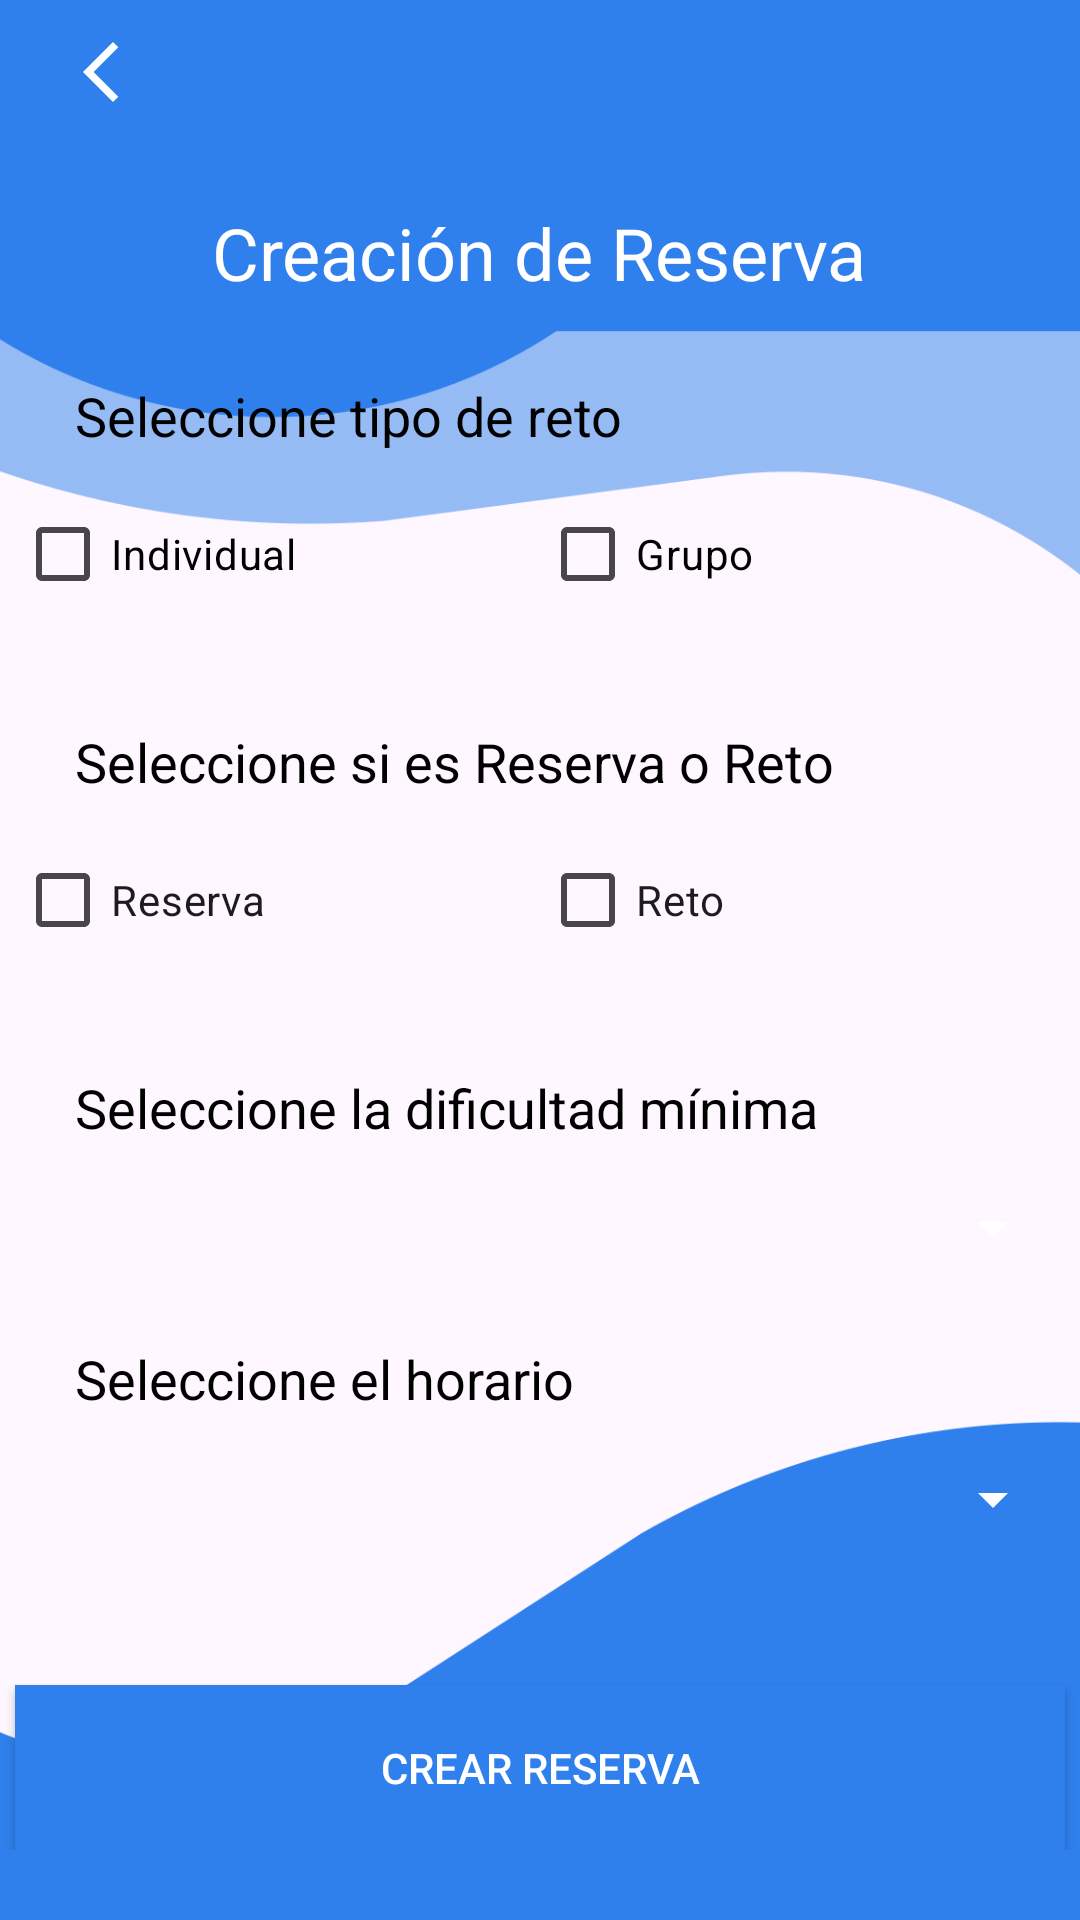

Icons on this 1080px x 1920px Android screen, each with its box as (x1, y1, x2, y2):
Go back: (83, 42, 118, 102)
